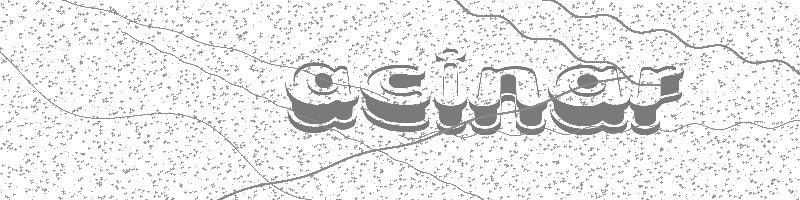a: (548, 64, 629, 137), (285, 62, 360, 134)
c: (360, 63, 432, 133)
i: (435, 45, 468, 136)
n: (468, 63, 549, 136)
r: (629, 65, 685, 136)
